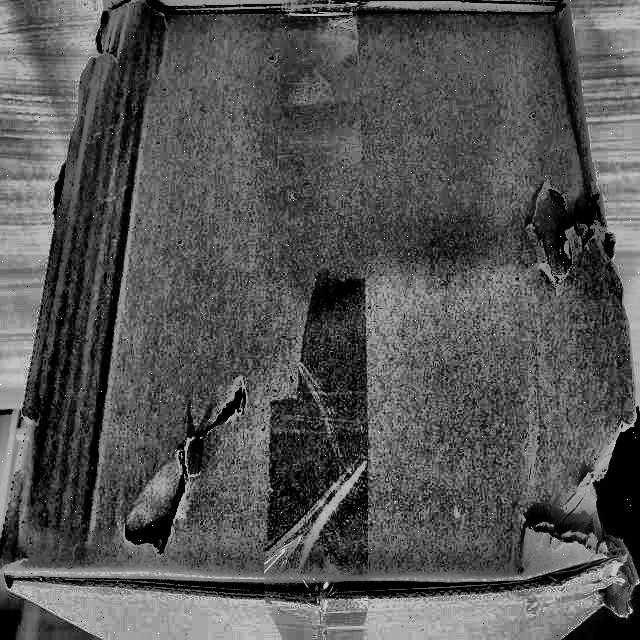box: (1, 1, 637, 640)
hole: (123, 363, 249, 551), (551, 424, 639, 613), (504, 164, 614, 296)
